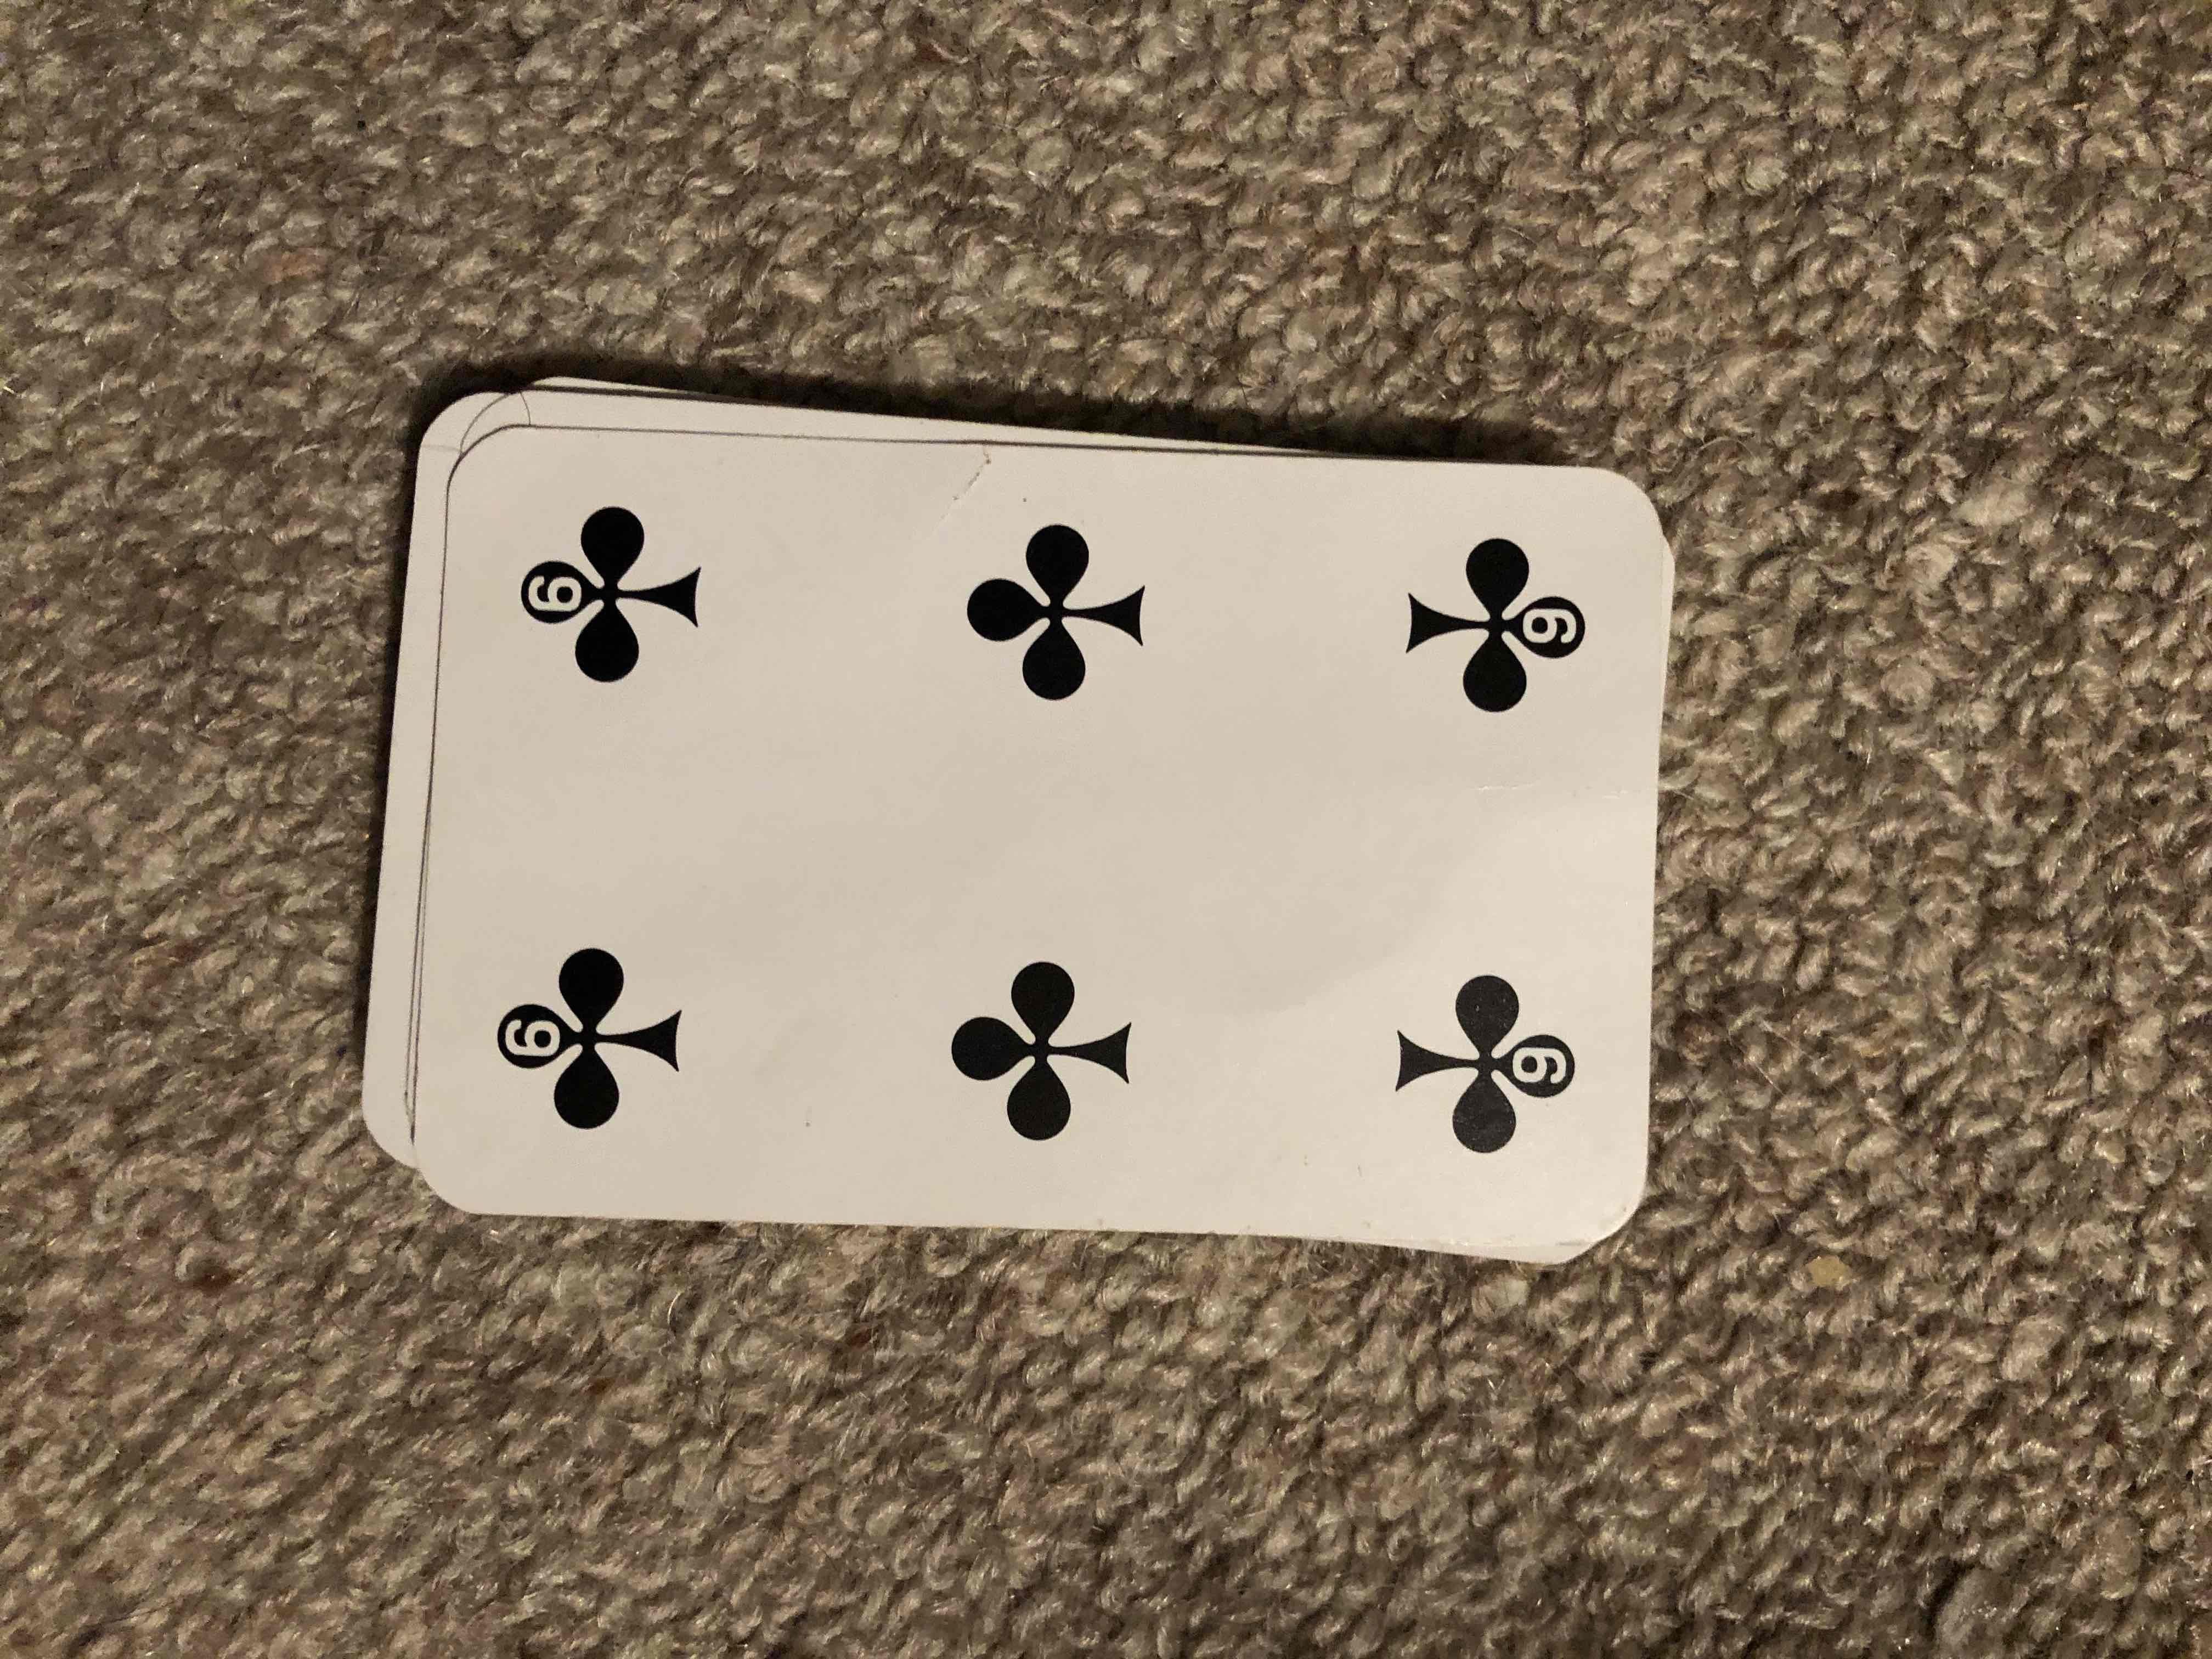clubs6: (434, 411, 1658, 1263)
